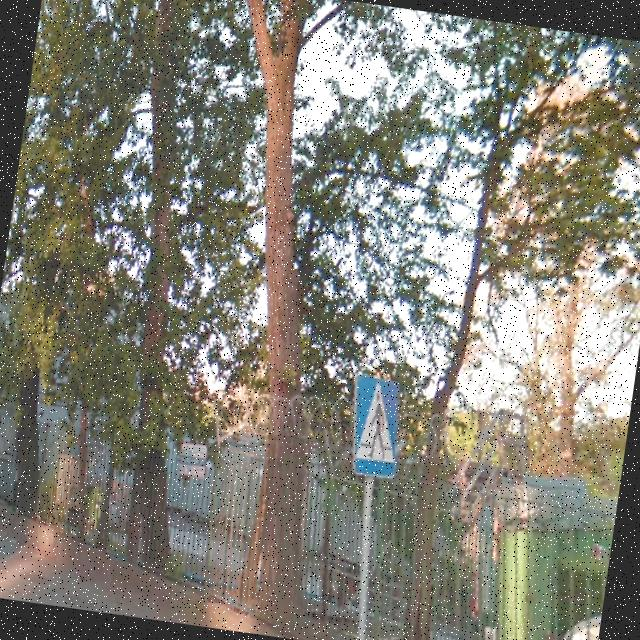Przejscie dla pieszych: (344, 377, 406, 479)
